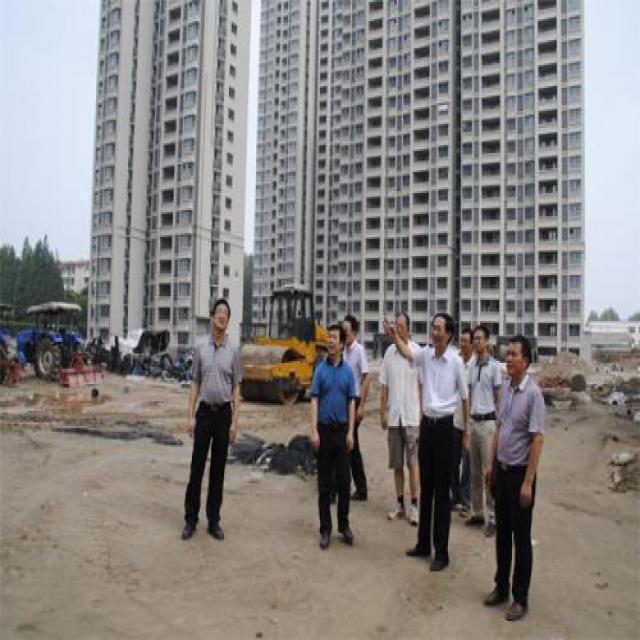head: (503, 328, 533, 381), (426, 307, 455, 355), (208, 294, 234, 334), (324, 320, 344, 358), (471, 320, 491, 354), (342, 310, 361, 345), (394, 307, 412, 343), (457, 320, 473, 358)
person: (176, 289, 241, 573), (294, 313, 363, 575), (492, 330, 551, 630), (407, 310, 468, 584), (376, 306, 427, 532), (464, 318, 500, 551)
